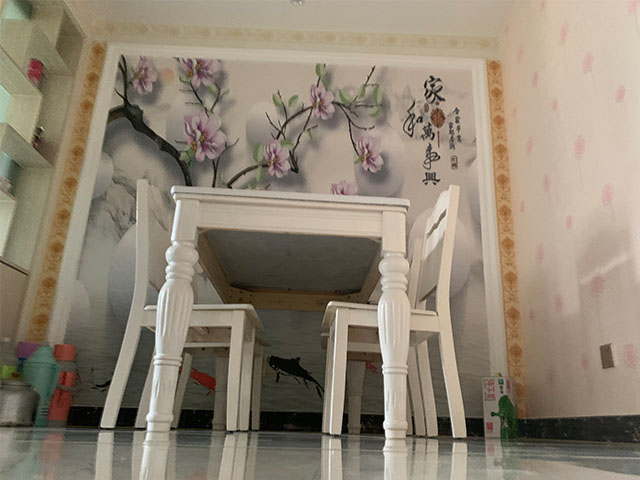stool: (98, 179, 266, 435), (321, 183, 469, 440)
table: (145, 185, 414, 440)
